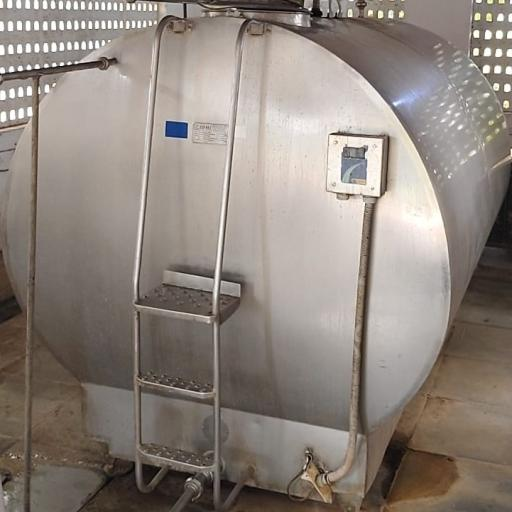silo: (0, 0, 511, 503)
